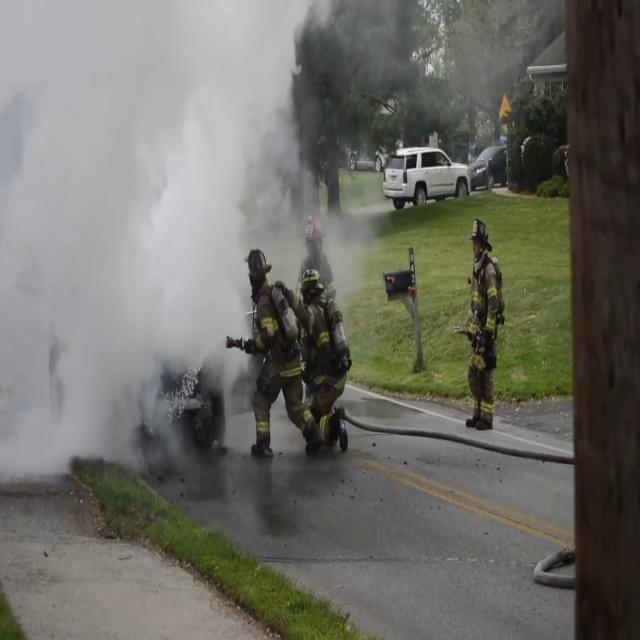Smoke: (1, 0, 346, 483)
